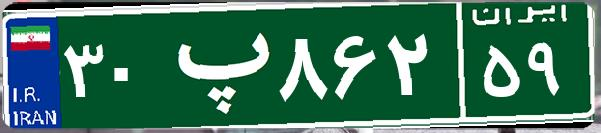0: (110, 28, 158, 105)
2: (385, 28, 445, 110)
3: (57, 26, 110, 107)
5: (475, 38, 525, 113)
6: (330, 28, 385, 110)
8: (273, 28, 330, 110)
9: (525, 38, 570, 115)
پ: (158, 15, 273, 115)
